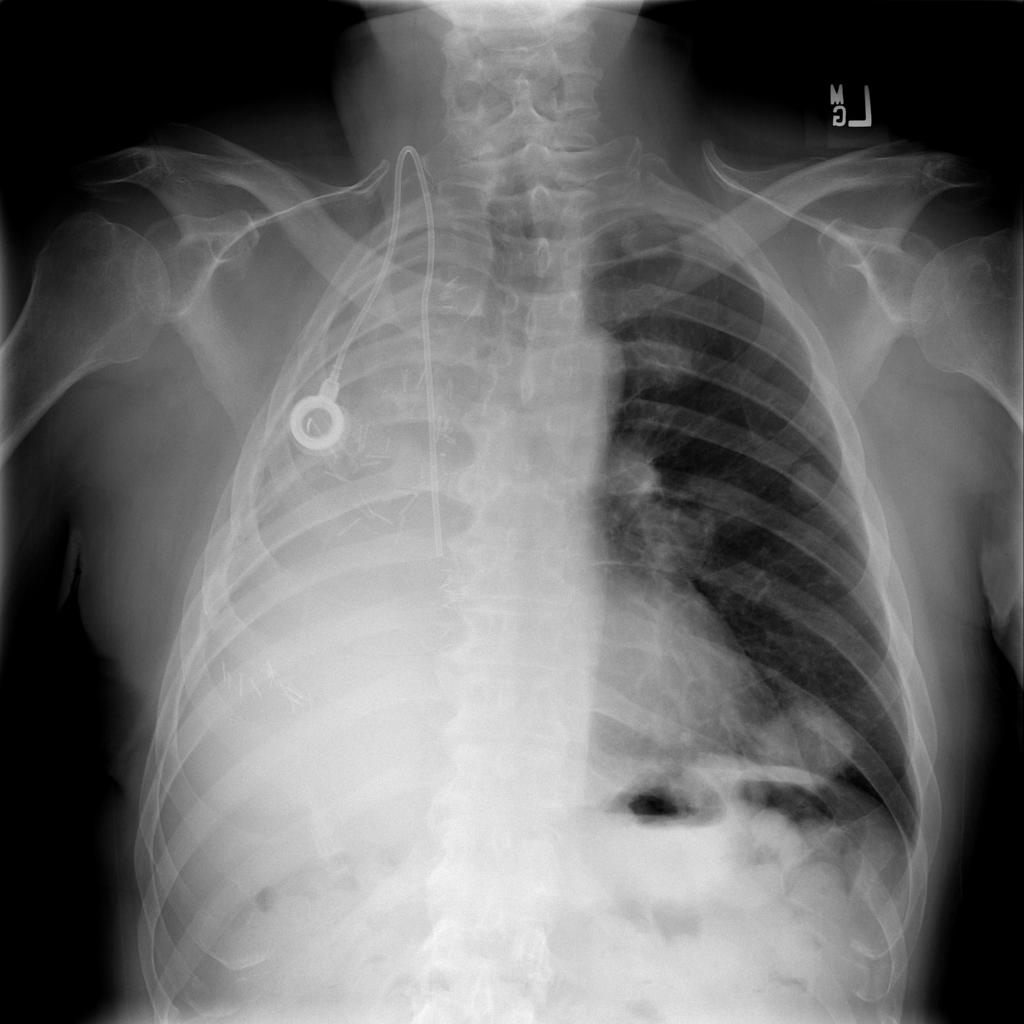nodule: (737, 689, 876, 808), (610, 301, 724, 404), (773, 449, 844, 520)
